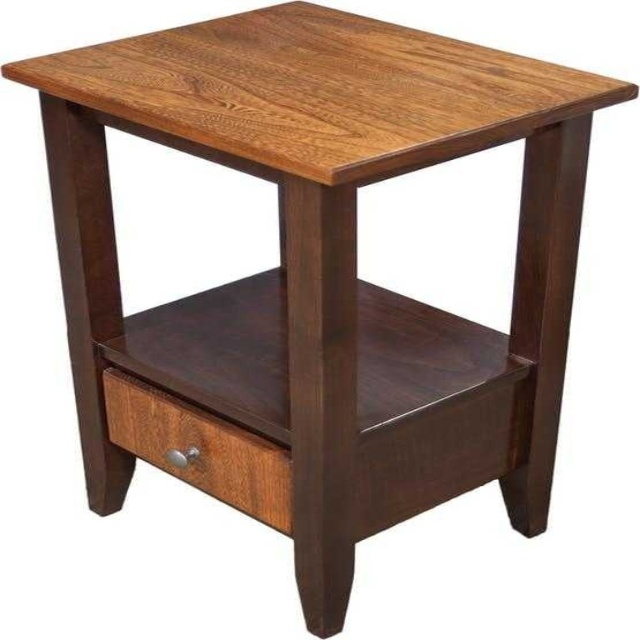obstacle: (2, 79, 316, 639), (331, 101, 637, 639), (310, 0, 637, 82), (2, 0, 285, 63)
